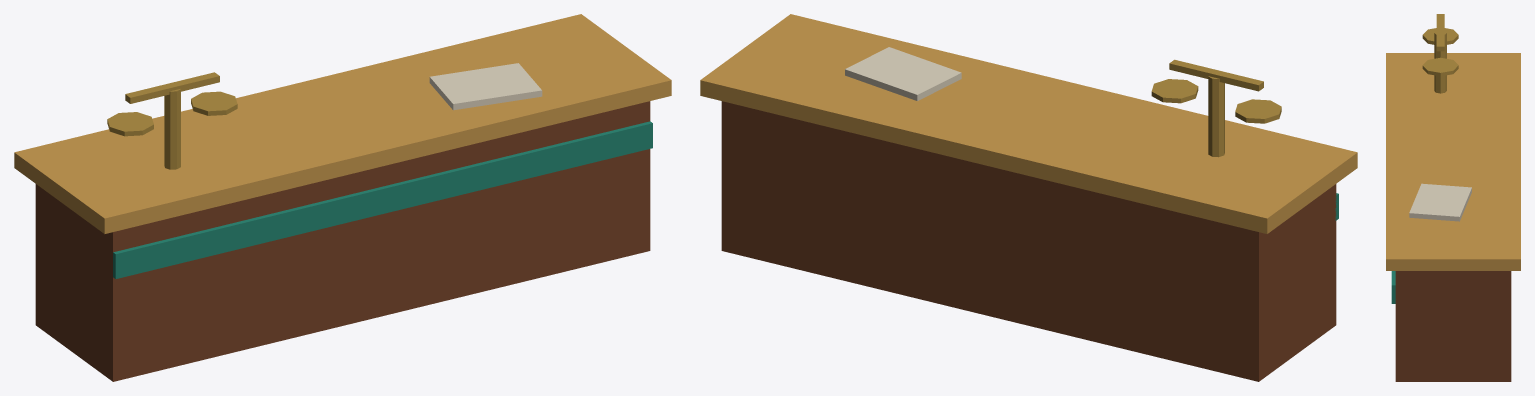
File: counter.gltf
3 renders of one model, left to right at view 1: azimuth 30°, elevation 25°; view 2: azimuth 150°, elevation 25°; view 3: azimuth 270°, elevation 25°, orthographic. The views are drawn at different scales.
Visible parts, largest first — view 1: body, top, band, ledger, scale_post, scale_beam, scale_pans.2, scale_pans; view 2: body, top, ledger, scale_post, scale_beam, scale_pans.2, scale_pans; view 3: top, body, ledger, scale_pans.2, scale_post, scale_beam, scale_pans, band.
Boxes of the visible parts, x1=… form: body: x1=35, y1=101, x2=650, y2=381; top: x1=14, y1=14, x2=671, y2=233; band: x1=113, y1=121, x2=652, y2=278; ledger: x1=429, y1=63, x2=542, y2=110; scale_post: x1=164, y1=89, x2=180, y2=169; scale_beam: x1=125, y1=72, x2=219, y2=103; scale_pans.2: x1=191, y1=91, x2=237, y2=115; scale_pans: x1=107, y1=112, x2=153, y2=136; body: x1=721, y1=101, x2=1336, y2=381; top: x1=700, y1=14, x2=1357, y2=233; ledger: x1=845, y1=47, x2=961, y2=100; scale_post: x1=1208, y1=76, x2=1224, y2=157; scale_beam: x1=1169, y1=59, x2=1263, y2=91; scale_pans.2: x1=1151, y1=79, x2=1198, y2=103; scale_pans: x1=1235, y1=99, x2=1281, y2=123; top: x1=1386, y1=53, x2=1520, y2=270; body: x1=1395, y1=271, x2=1511, y2=381; ledger: x1=1409, y1=183, x2=1471, y2=221; scale_pans.2: x1=1422, y1=57, x2=1458, y2=76; scale_post: x1=1434, y1=30, x2=1446, y2=93; scale_beam: x1=1436, y1=14, x2=1444, y2=51; scale_pans: x1=1422, y1=28, x2=1458, y2=44; band: x1=1391, y1=271, x2=1395, y2=303.
Bounding box in the file's own units: 3.8 × 1.62 × 1.05.
